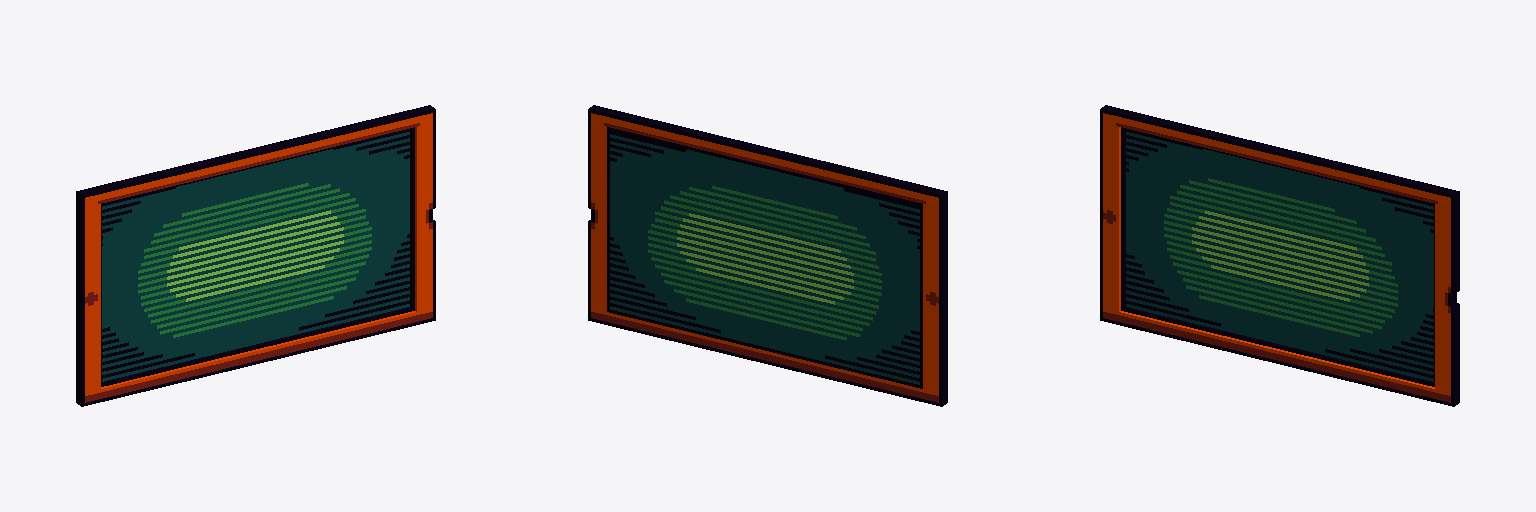
3 renders of one model, left to right at view 1: azimuth 30°, elevation 25°; view 2: azimuth 150°, elevation 25°; view 3: azimuth 330°, elevation 25°, orthographic.
Visible parts, largest first — view 1: object 1; view 2: object 1; view 3: object 1.
Boxes of the visible parts, x1,y1,x2,y2 form: object 1: [76, 105, 435, 406]; object 1: [588, 105, 947, 406]; object 1: [1100, 105, 1459, 406].
Size of the model in its own units: 11.2 by 6.4 by 0.3.
1 materials, 1 textured.